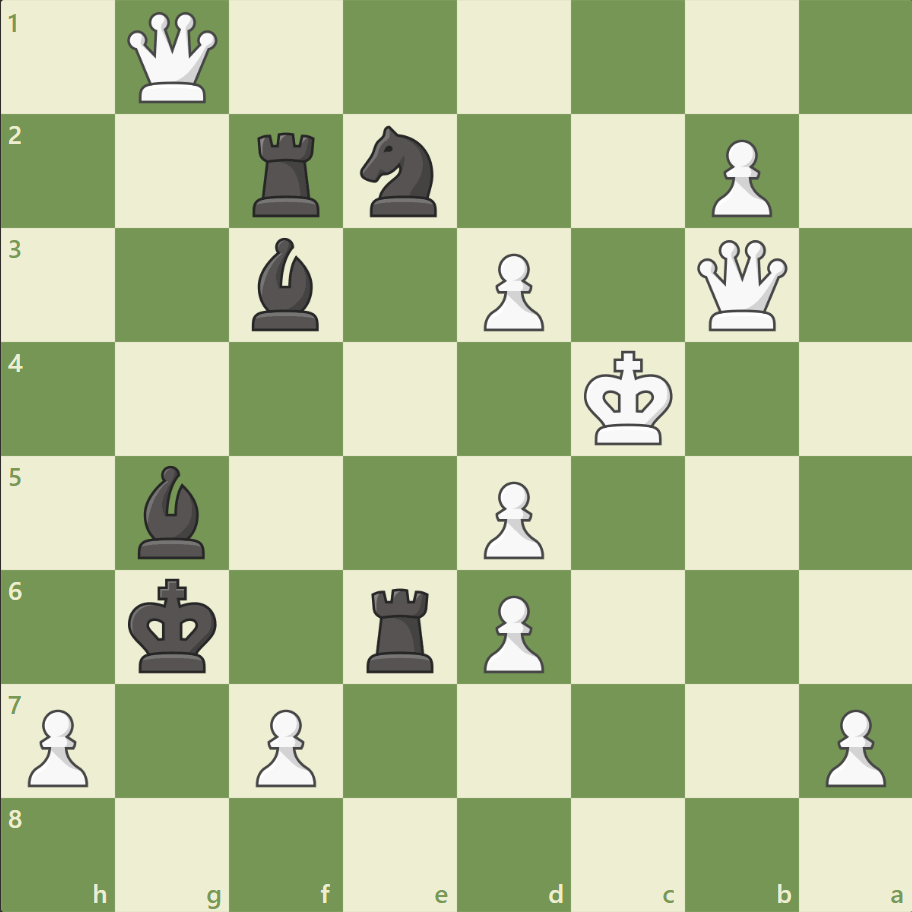K: (579, 344, 679, 452)
P: (247, 700, 322, 791), (20, 700, 95, 791), (474, 586, 549, 677), (474, 473, 549, 564), (474, 246, 549, 337), (701, 132, 776, 223), (815, 700, 889, 791)
Q: (691, 236, 790, 335), (124, 9, 223, 108)
b: (131, 460, 215, 563), (244, 233, 328, 336)
k: (124, 571, 224, 679)
n: (351, 121, 449, 223)
r: (246, 125, 329, 222), (360, 579, 442, 676)
